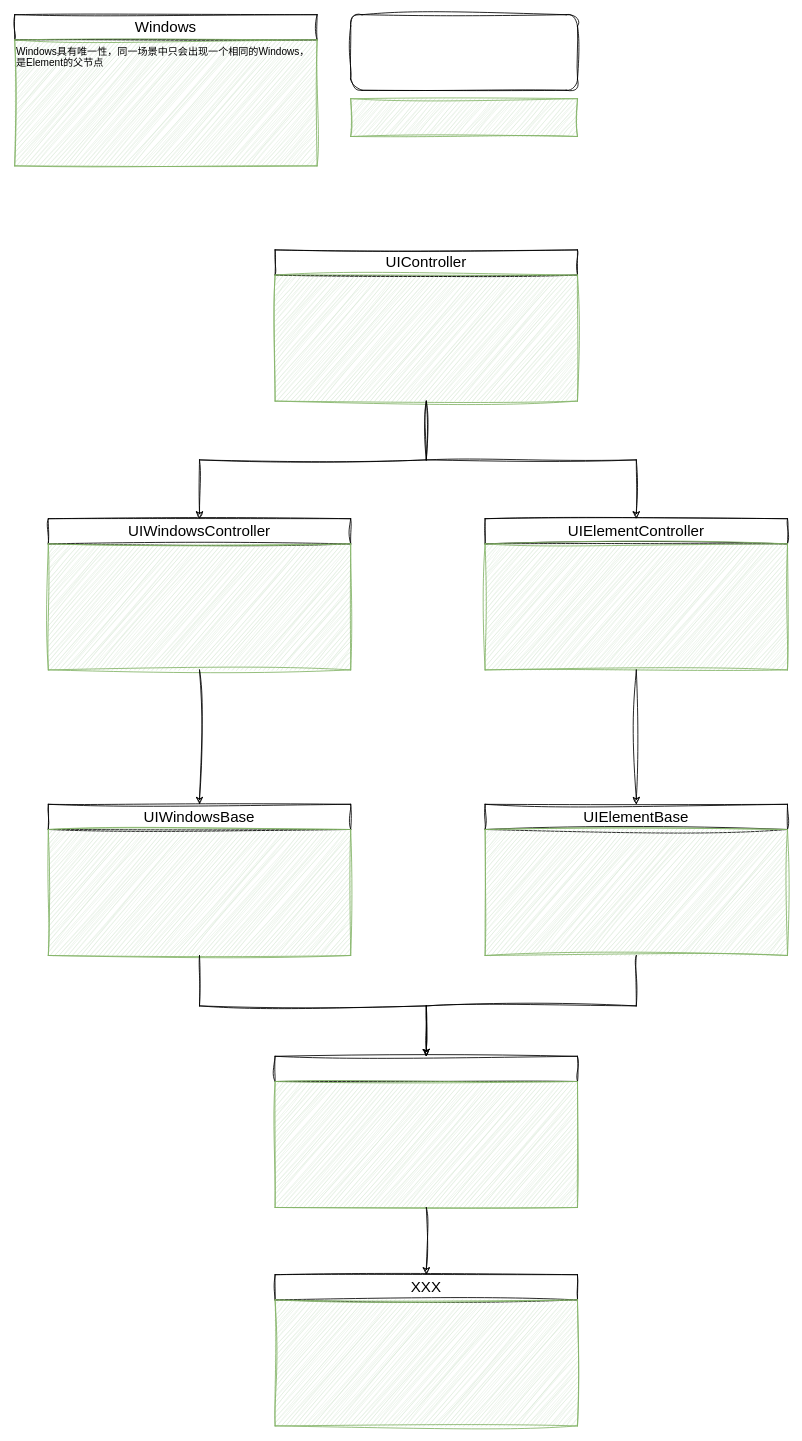
Some shapes in this 802 by 1441 pixel diagram are drawn without their labels. Here are the shapes that lost their labels. From the top down, the centre of each, then its label:
At (464,52): "Element".
At (464,117): "挂在Windows节点下，同一Windows节点下可以实例化多 个相同的Element".
At (426,1068): "UIXXXBase".
